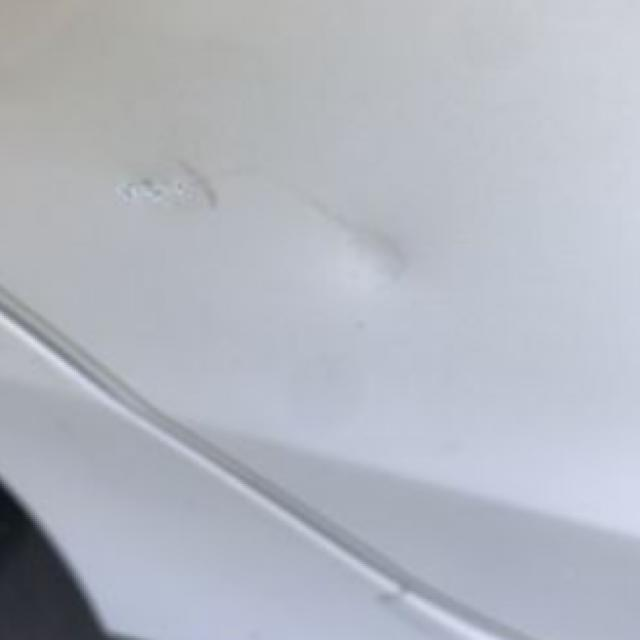dents: (289, 180, 430, 302), (128, 148, 220, 234)
